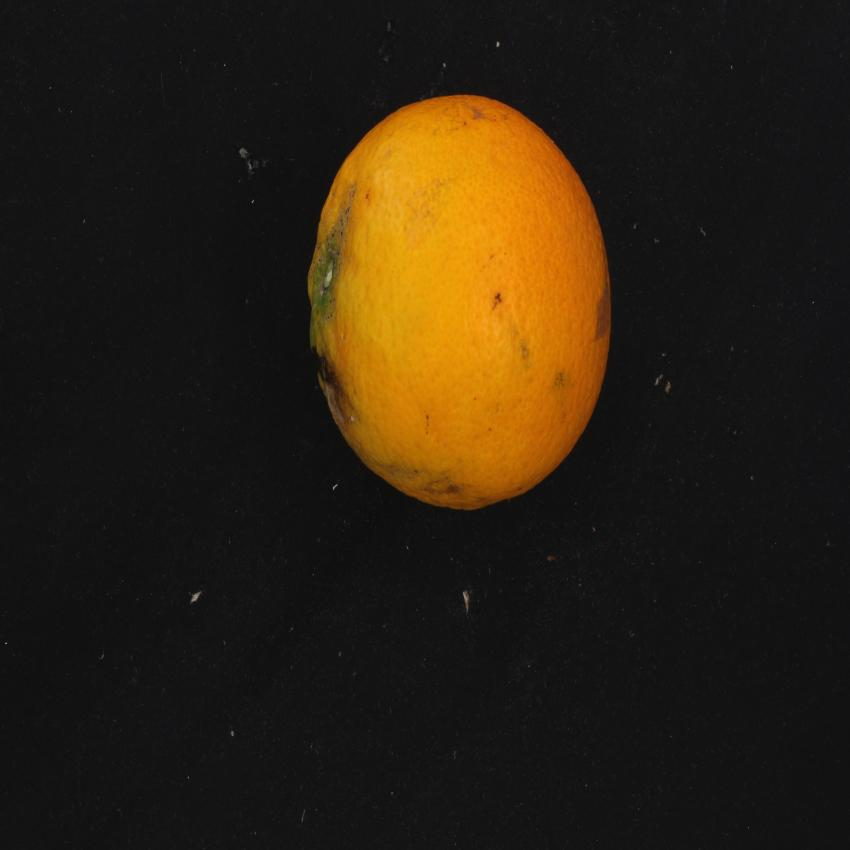Mal estado: (297, 71, 627, 526)
